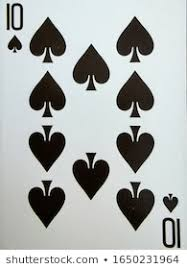ten of spades: (2, 1, 186, 249)
